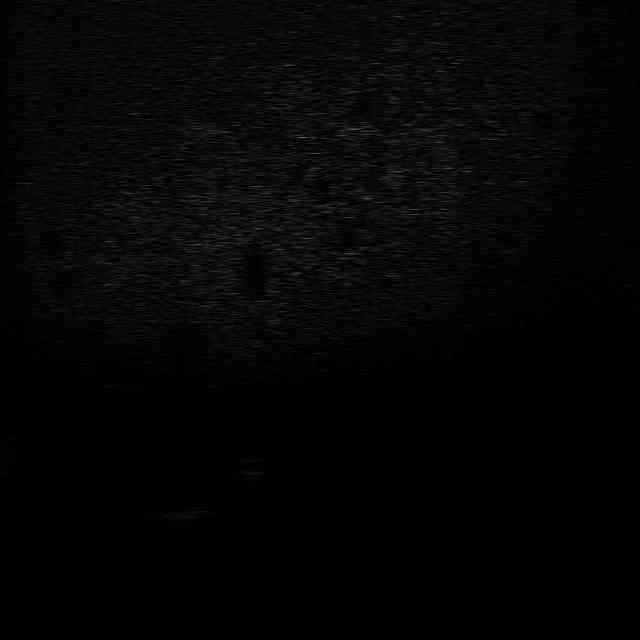ball: (215, 449, 277, 486)
square cage: (135, 498, 223, 537)
